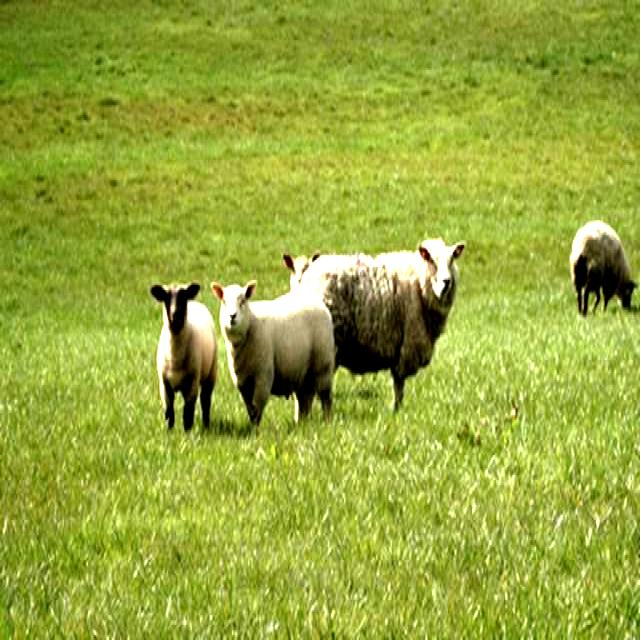sheep: (299, 239, 465, 412), (212, 277, 335, 432), (150, 281, 221, 438)
